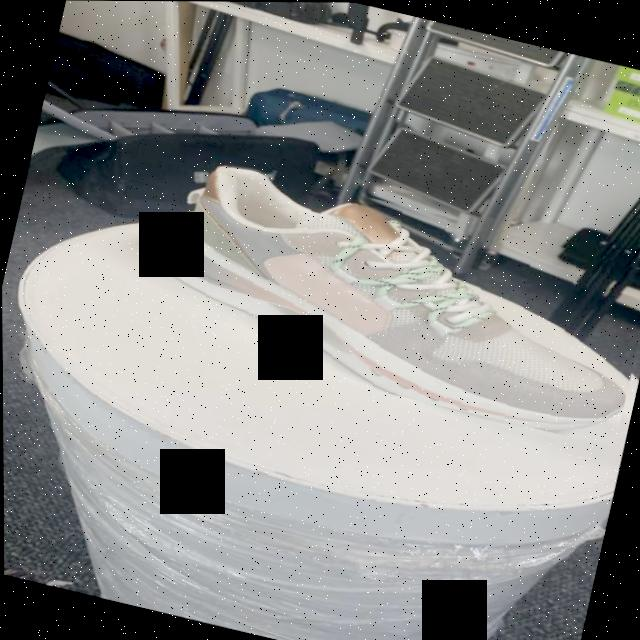shoe: (119, 143, 640, 446)
